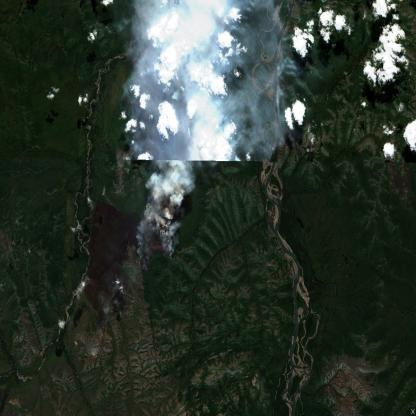fire: (120, 40, 152, 158), (139, 196, 172, 270)
